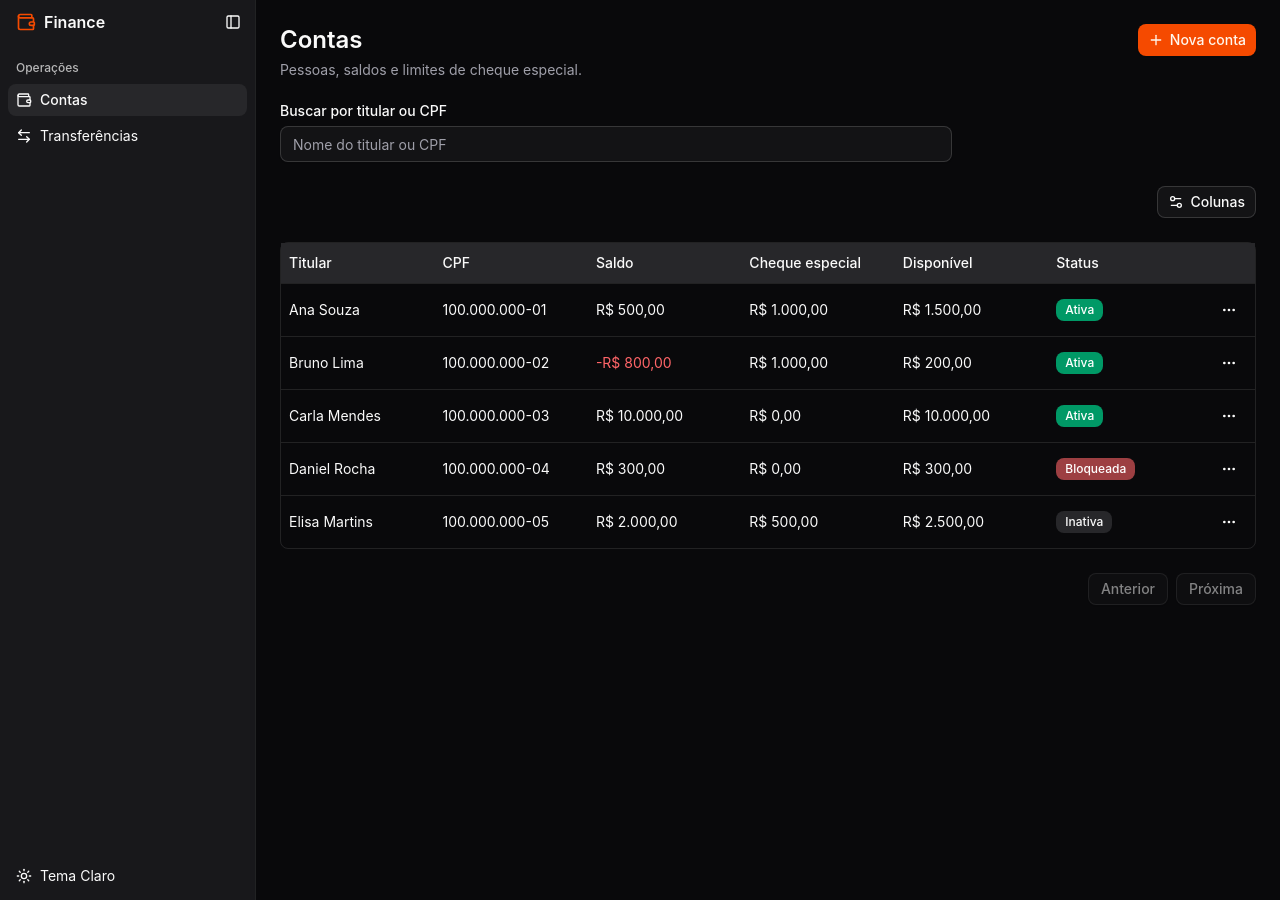
Accounts page › creates a new account and shows it in the list
Expected: the row "Ana Souza" is shown, [281, 283, 1255, 336]
Click the button "Nova conta": (1197, 40) [1138, 24, 1256, 56]
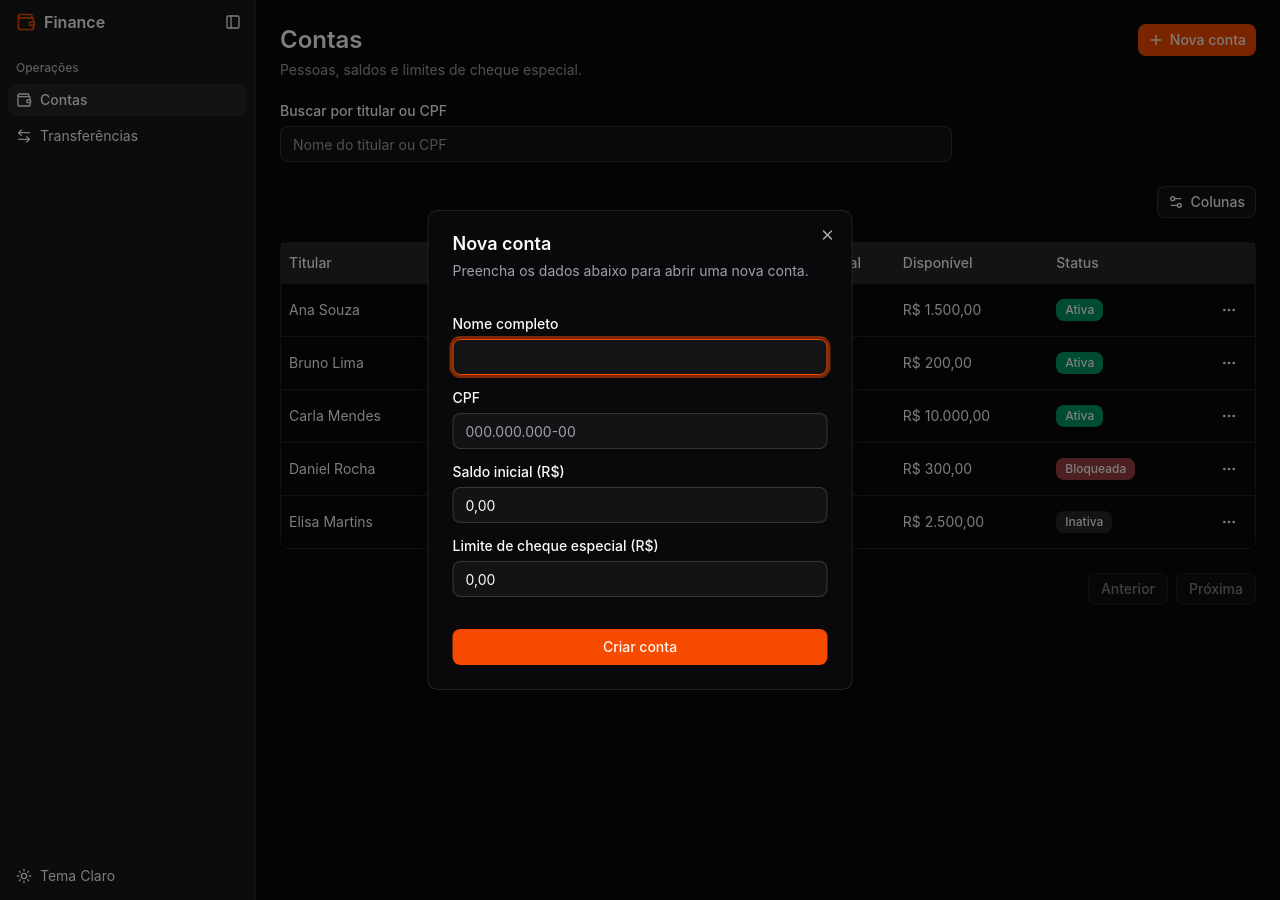
Now the field labelled "Nome completo" is shown
In the field labelled "Nome completo": (640, 357) [452, 339, 828, 375], type "Fernanda Alves"
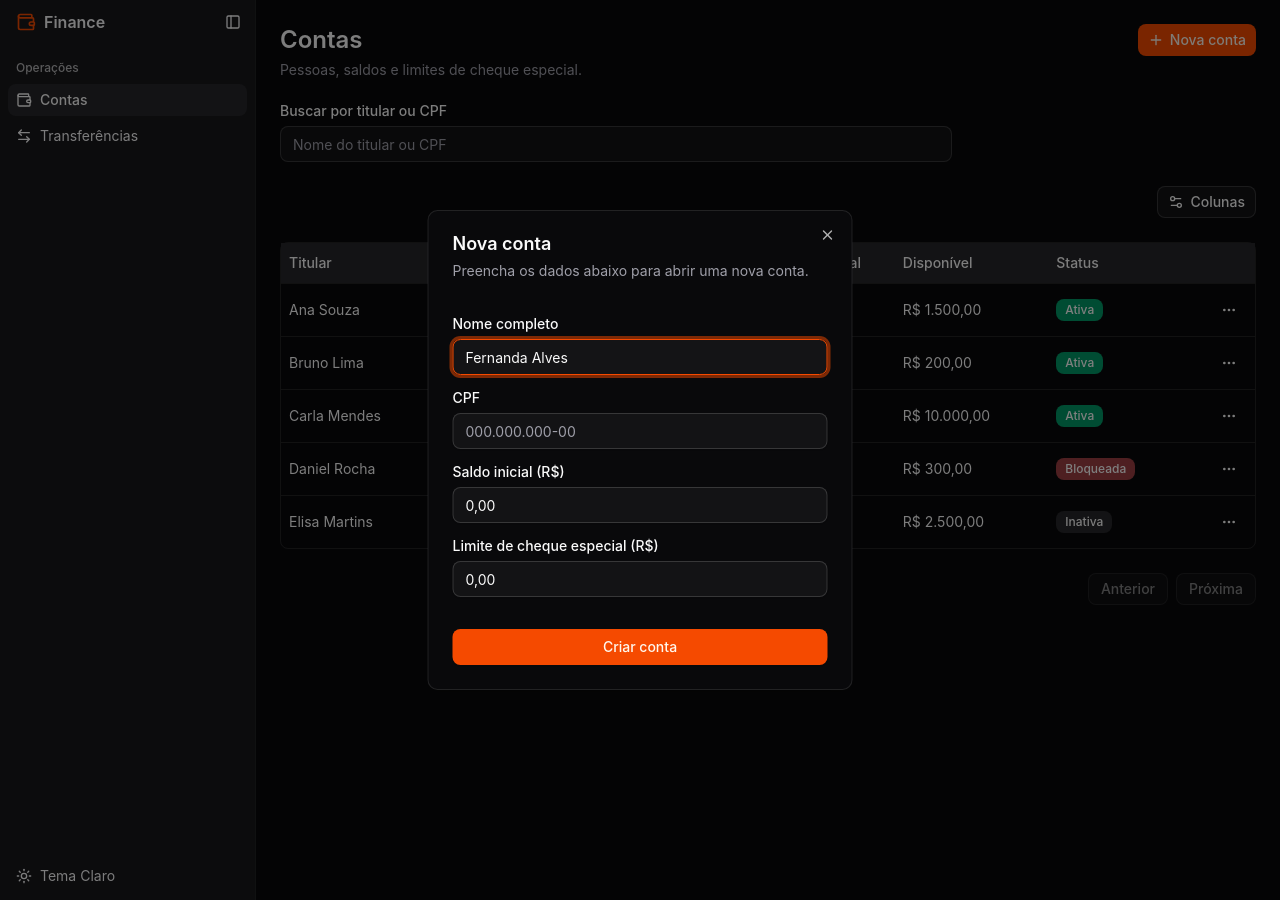
In the field labelled "CPF": (640, 431) [452, 413, 828, 449], type "10000000006"
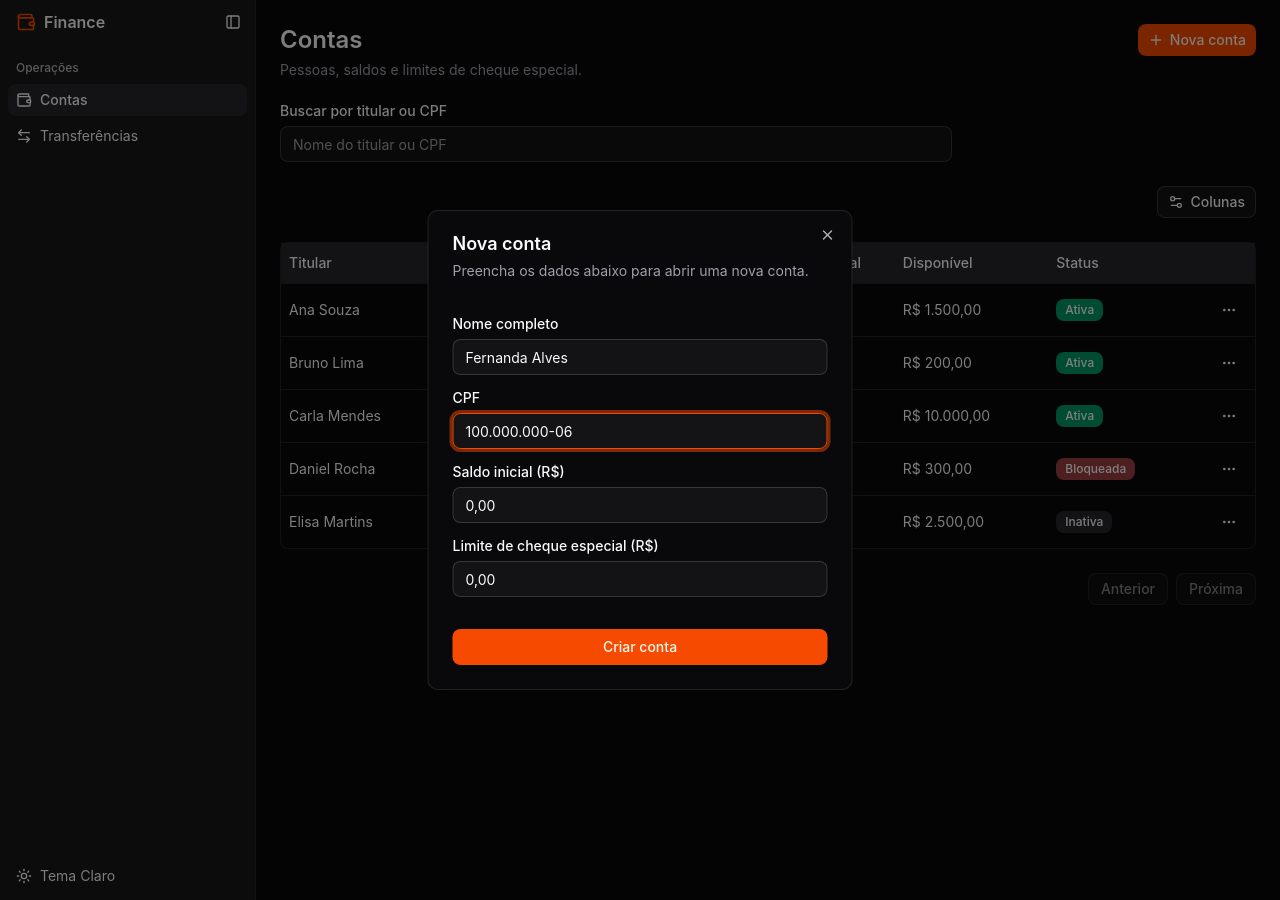
In the field labelled "Saldo inicial (R$)": (640, 505) [452, 487, 828, 523], type "25000"
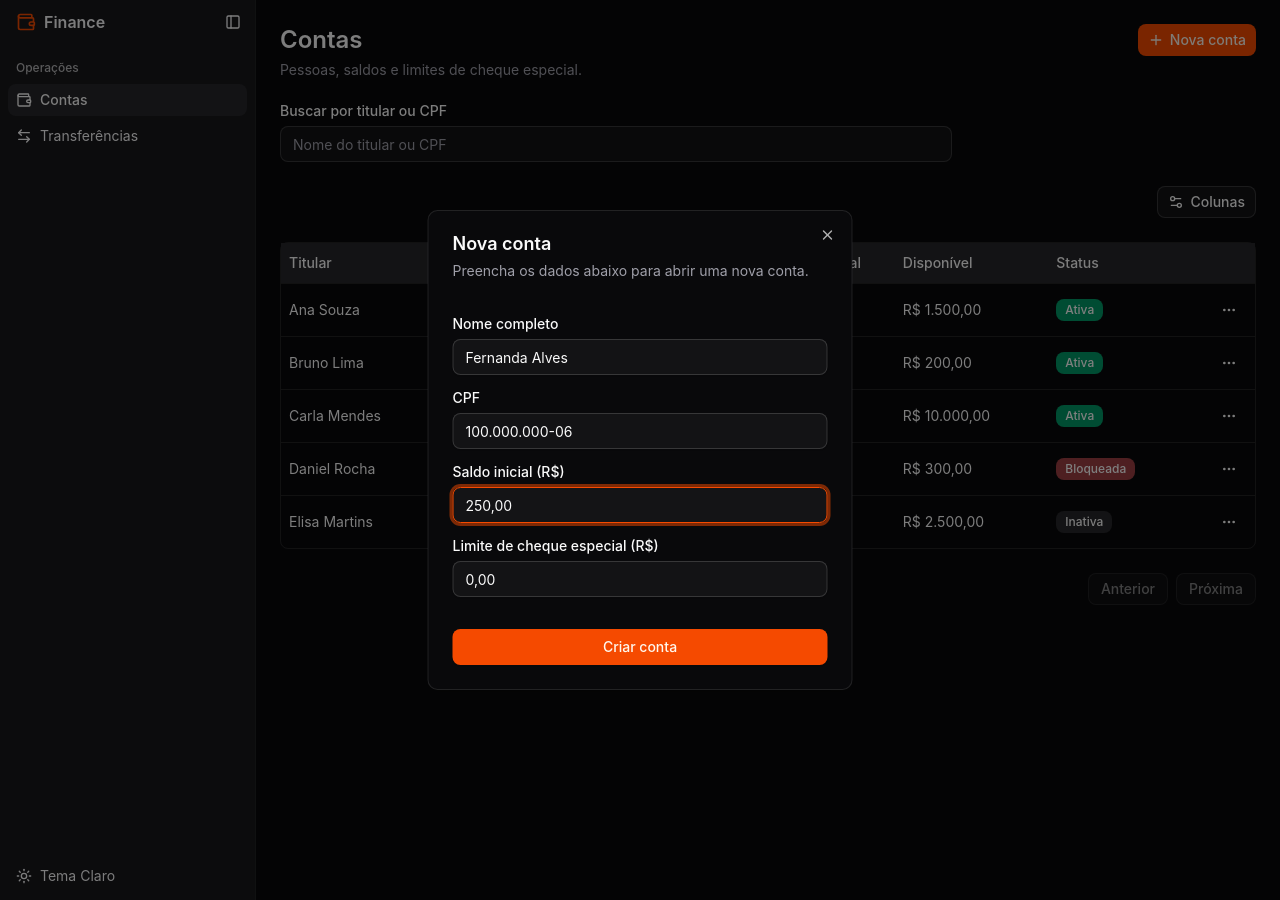
In the field labelled "Limite de cheque especial (R$)": (640, 579) [452, 561, 828, 597], type "30000"
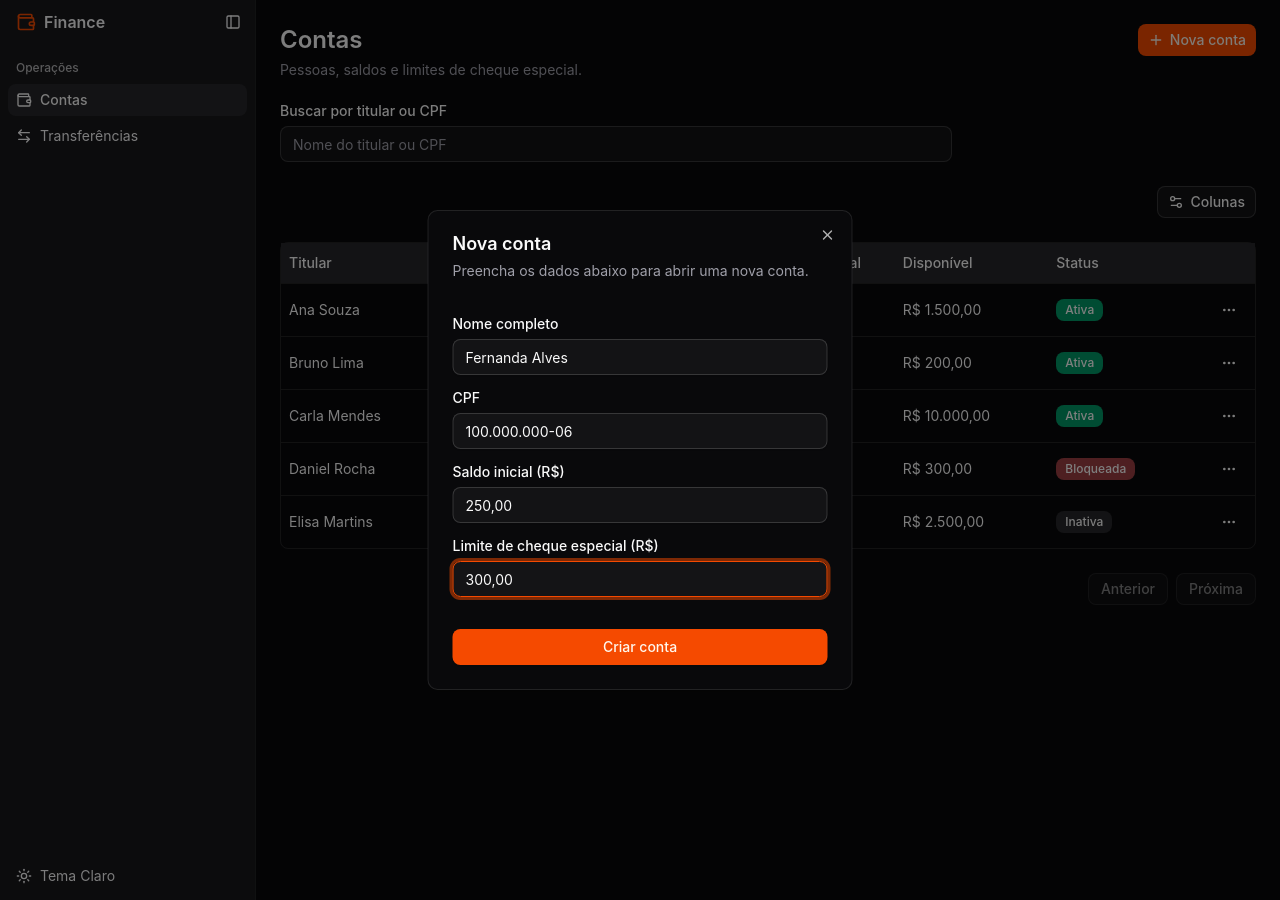
Click the button "Criar conta": (640, 647) [452, 629, 828, 665]
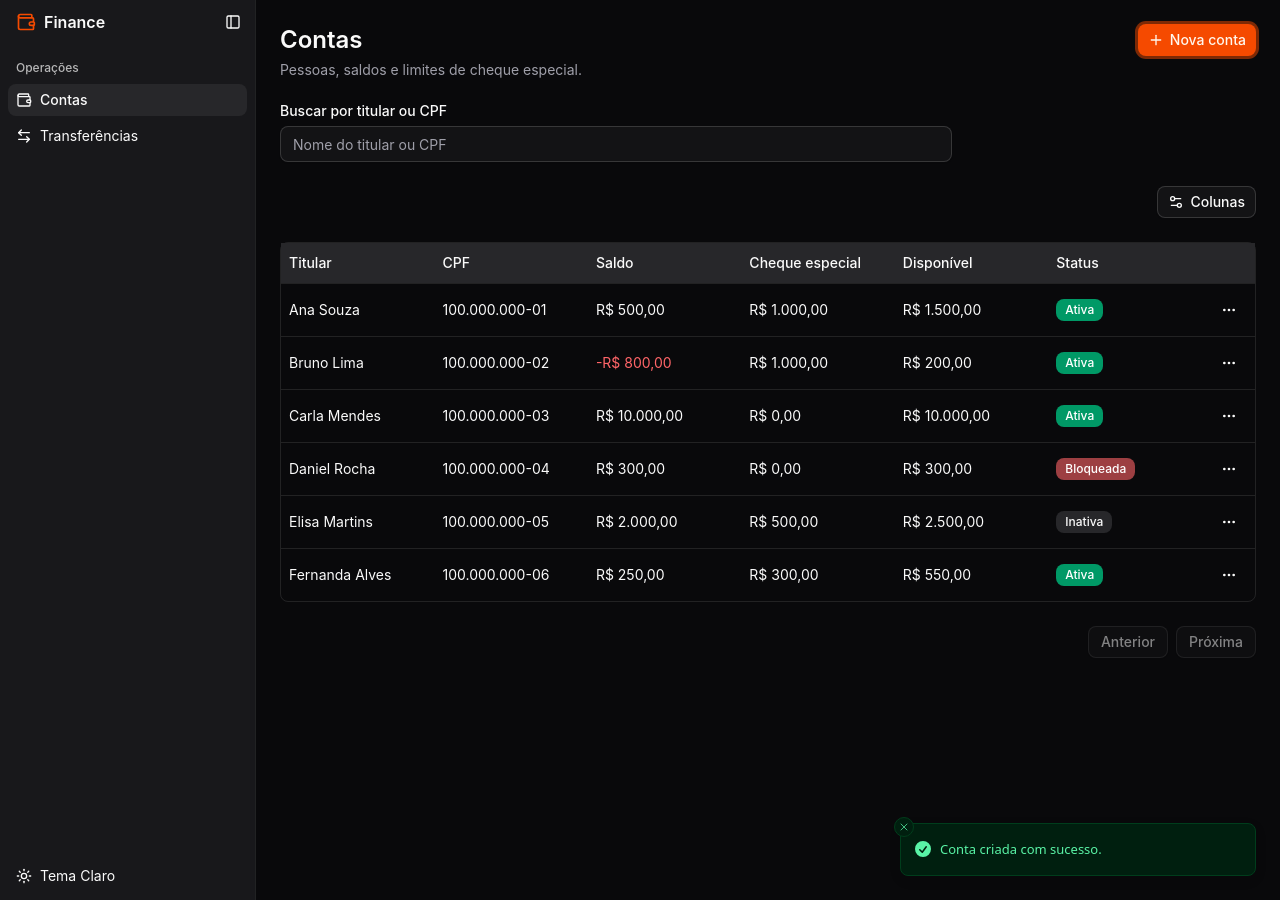
Now the text "Conta criada com sucesso." is shown, box [940, 840, 1102, 859]
Now the row "Fernanda Alves" is shown, box [281, 548, 1255, 600]
